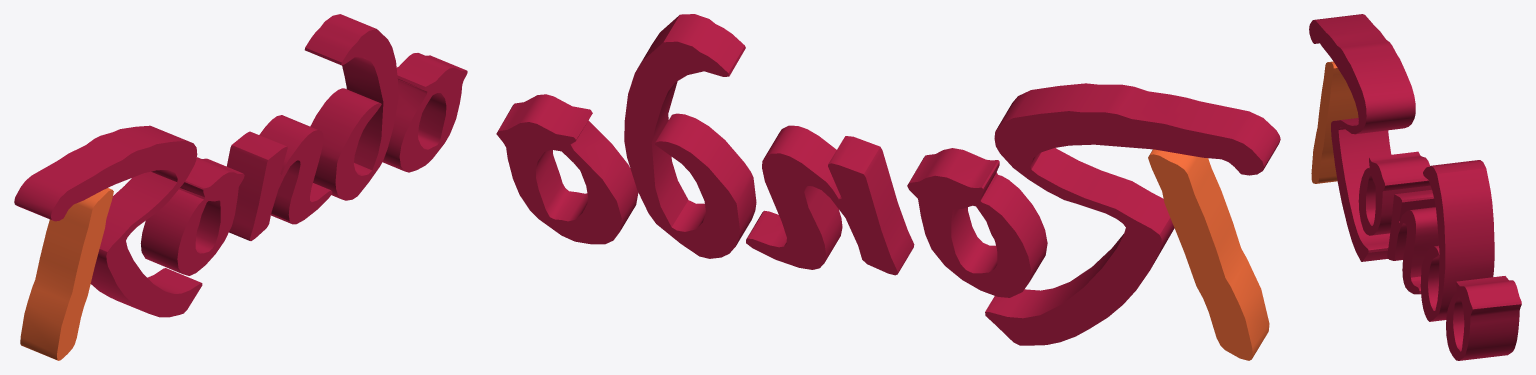
File: rondoNapis.fbx
3 views of the same model, side by side, from view 1: azimuth 30°, elevation 25°; view 2: azimuth 150°, elevation 25°; view 3: azimuth 270°, elevation 25° (orthographic). The views are drawn at different scales.
Parts seen in each view (by area): view 1: Curve; view 2: Curve; view 3: Curve.
Part boxes in pixels (x1=…): Curve: x1=14, y1=14, x2=467, y2=360; Curve: x1=496, y1=14, x2=1280, y2=360; Curve: x1=1309, y1=14, x2=1521, y2=360.
Bounding box in the file's own units: 323 × 122 × 116.
